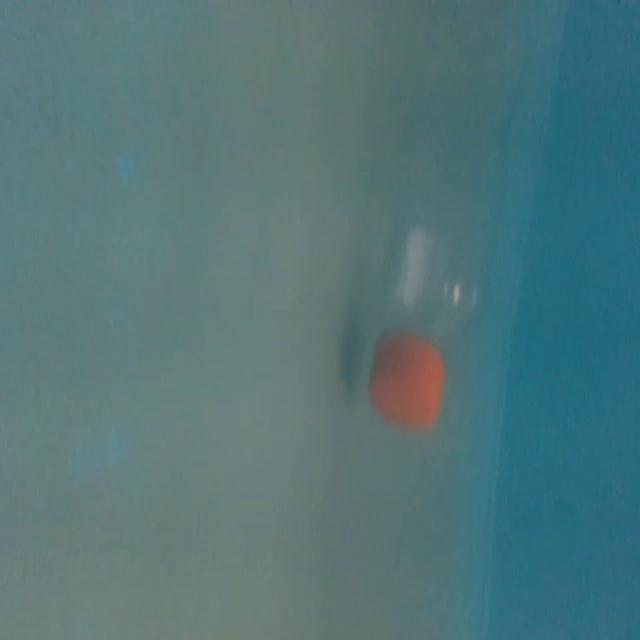plastic bottle: (362, 9, 524, 439)
